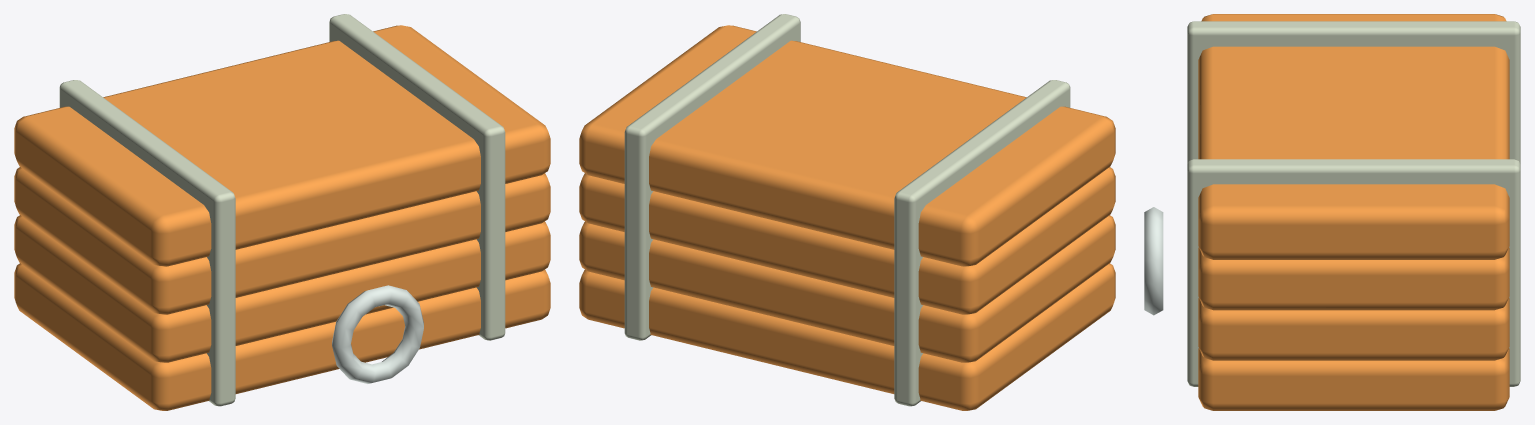
The model's file is diving-and-underwater-salvage-lift-bag-folded-c2d6cd07__28443.glb.
The picture shows the model from 3 angles, left to right: view 1: azimuth 30°, elevation 25°; view 2: azimuth 150°, elevation 25°; view 3: azimuth 270°, elevation 25°; orthographic projection. The views are drawn at different scales.
Visible parts, largest first — view 1: lift-bag-folded-orange, lift-bag-folded-rope, lift-bag-folded-pale; view 2: lift-bag-folded-orange, lift-bag-folded-rope; view 3: lift-bag-folded-orange, lift-bag-folded-rope, lift-bag-folded-pale.
Part boxes in pixels (left/top/right/bottom): lift-bag-folded-orange: left=14, top=25, right=550, bottom=410; lift-bag-folded-rope: left=59, top=14, right=505, bottom=406; lift-bag-folded-pale: left=332, top=285, right=423, bottom=383; lift-bag-folded-orange: left=579, top=25, right=1115, bottom=410; lift-bag-folded-rope: left=624, top=14, right=1070, bottom=406; lift-bag-folded-orange: left=1198, top=14, right=1509, bottom=410; lift-bag-folded-rope: left=1187, top=21, right=1520, bottom=386; lift-bag-folded-pale: left=1144, top=207, right=1163, bottom=315.
Size of the model in its own units: 0.65 by 0.33 by 0.508.
